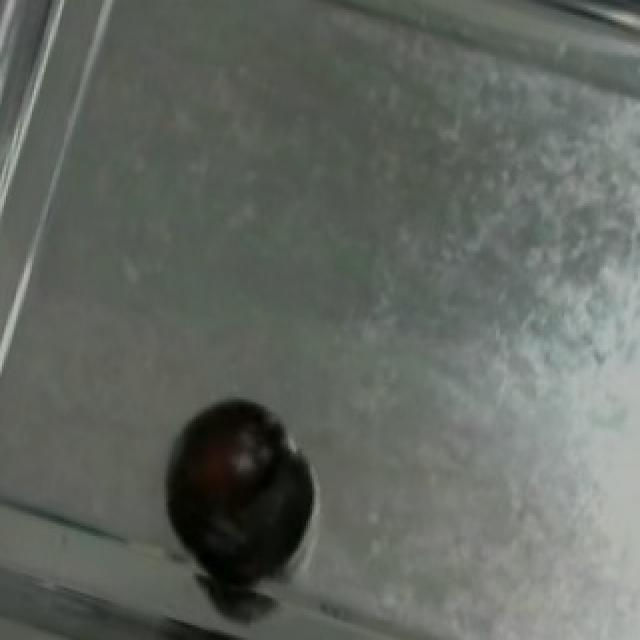Fruit: (154, 384, 308, 600)
